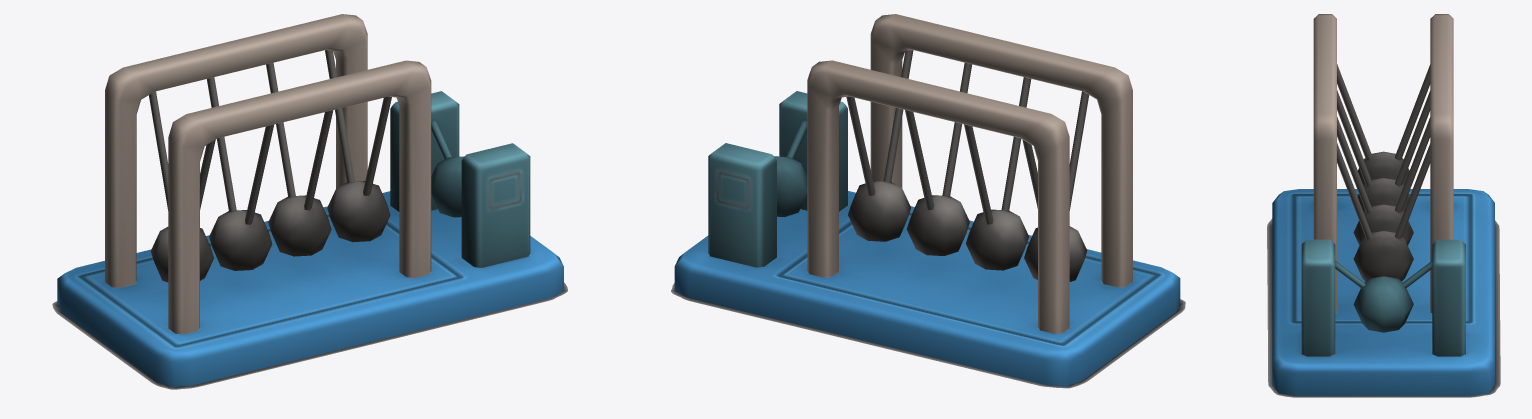
File: ScienceLab_Item_Momentum.FBX
3 views of the same model, side by side, from view 1: azimuth 30°, elevation 25°; view 2: azimuth 150°, elevation 25°; view 3: azimuth 270°, elevation 25° (orthographic). The views are drawn at different scales.
Parts seen in each view (by area): view 1: ScienceLab_Item_Momentum, ScienceLab_Shadow_Momentum; view 2: ScienceLab_Item_Momentum, ScienceLab_Shadow_Momentum; view 3: ScienceLab_Item_Momentum, ScienceLab_Shadow_Momentum.
Boxes of the visible parts, box(x1,y1,x2,y2) form: ScienceLab_Item_Momentum: box(57, 14, 563, 387); ScienceLab_Shadow_Momentum: box(52, 282, 567, 389); ScienceLab_Item_Momentum: box(674, 14, 1180, 386); ScienceLab_Shadow_Momentum: box(671, 283, 1185, 388); ScienceLab_Item_Momentum: box(1272, 14, 1494, 395); ScienceLab_Shadow_Momentum: box(1267, 218, 1500, 397).
Bounding box in the file's own units: 3.7 × 1.92 × 2.09.
